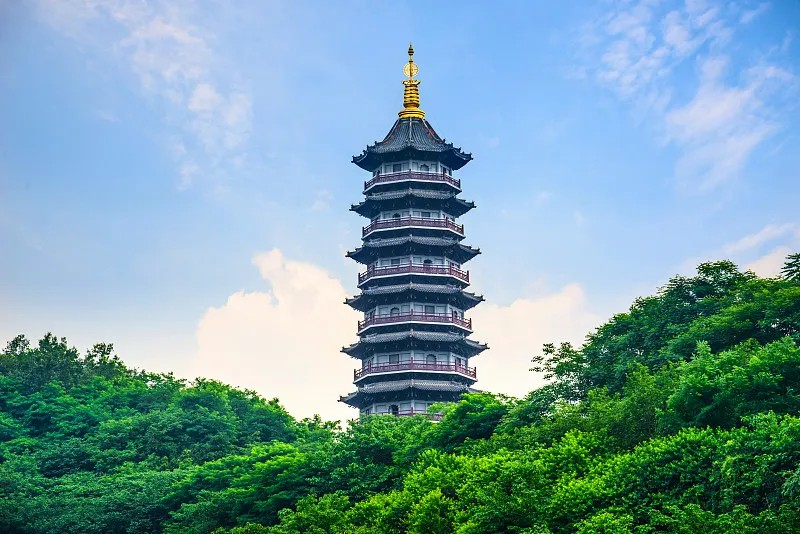Leifeng: (337, 39, 489, 437)
